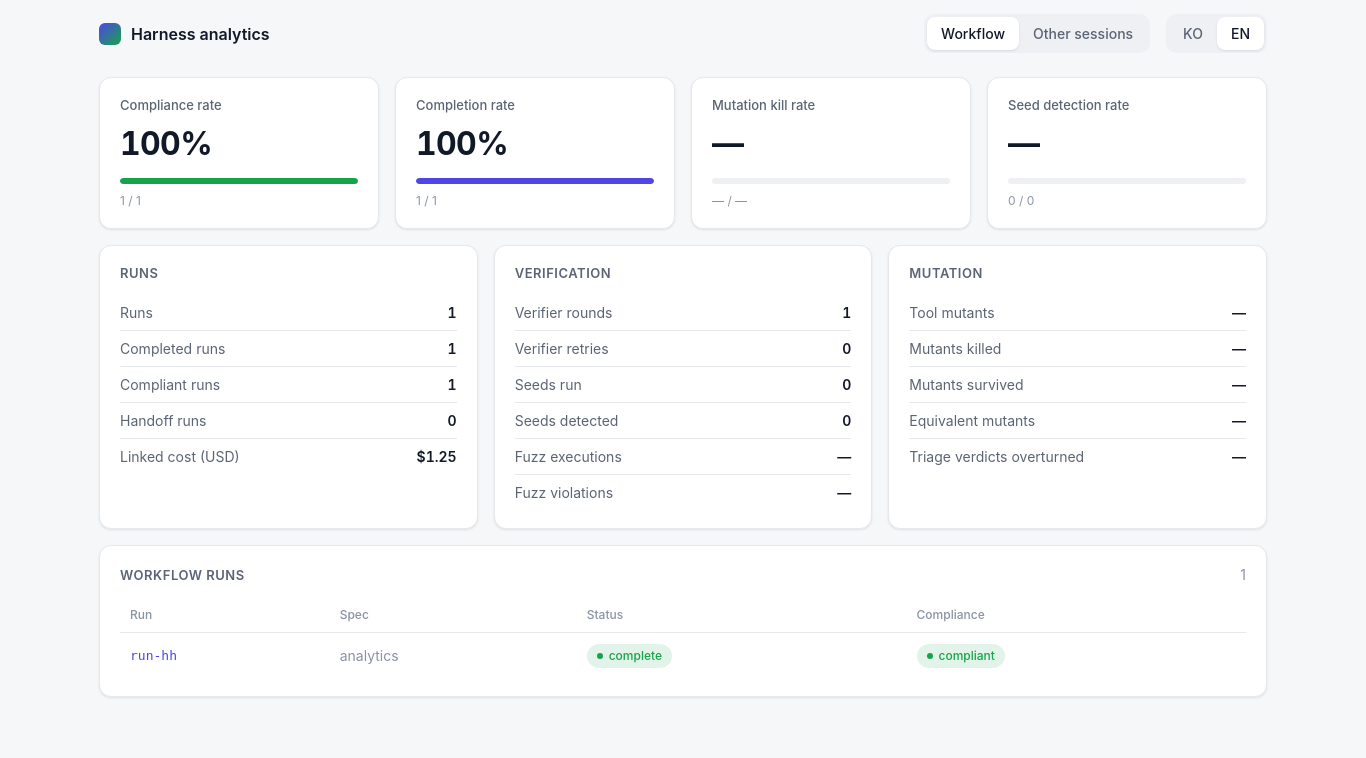
Test: spec isolation-telemetry O9 harness hacking dashboard › U4 run detail renders its own Harness hacking card
The image size is (1366, 758).
Click the link "run-hh" at (154, 656), box [130, 648, 177, 663]
(page scrolled)
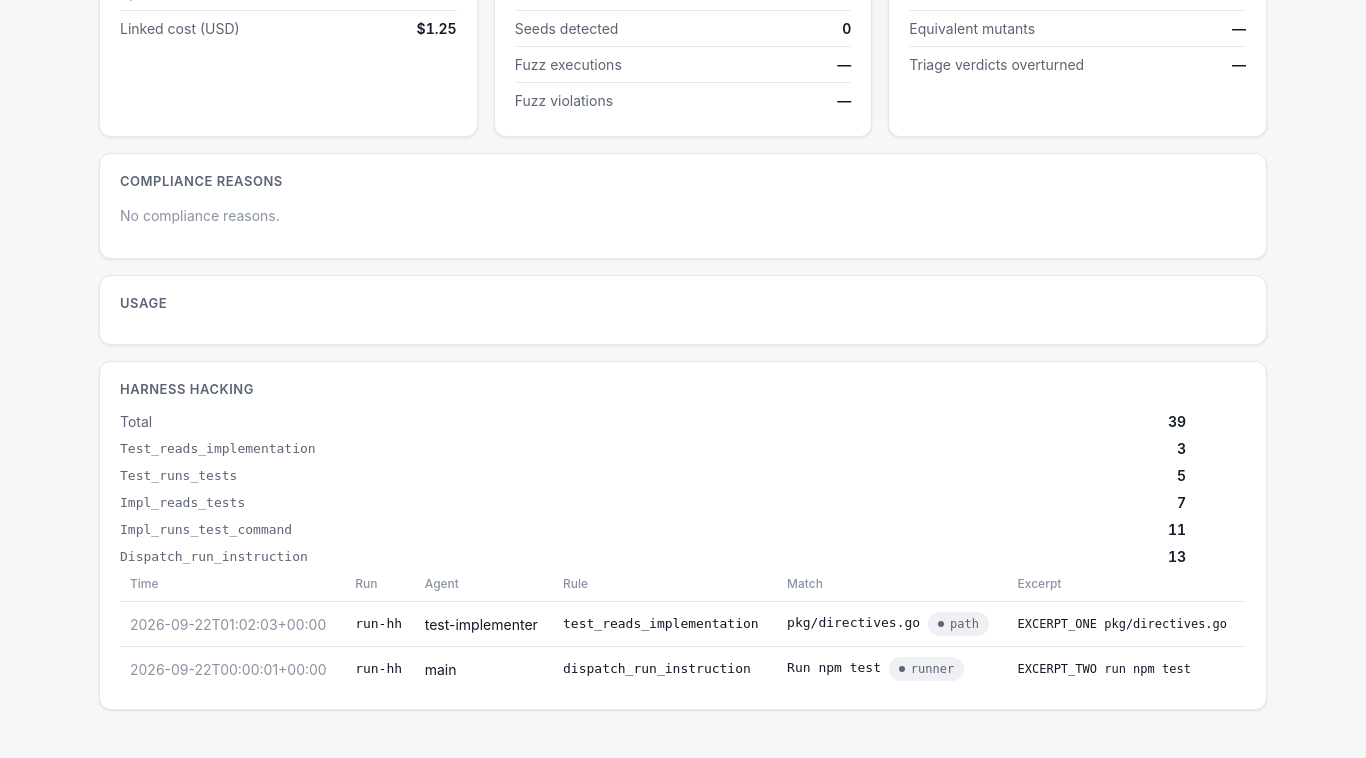
Result: the text "39" is shown at [1168, 413, 1186, 430]
Result: the text "3" is shown at [1177, 440, 1186, 457]
Result: the text "5" is shown at [1177, 467, 1186, 484]
